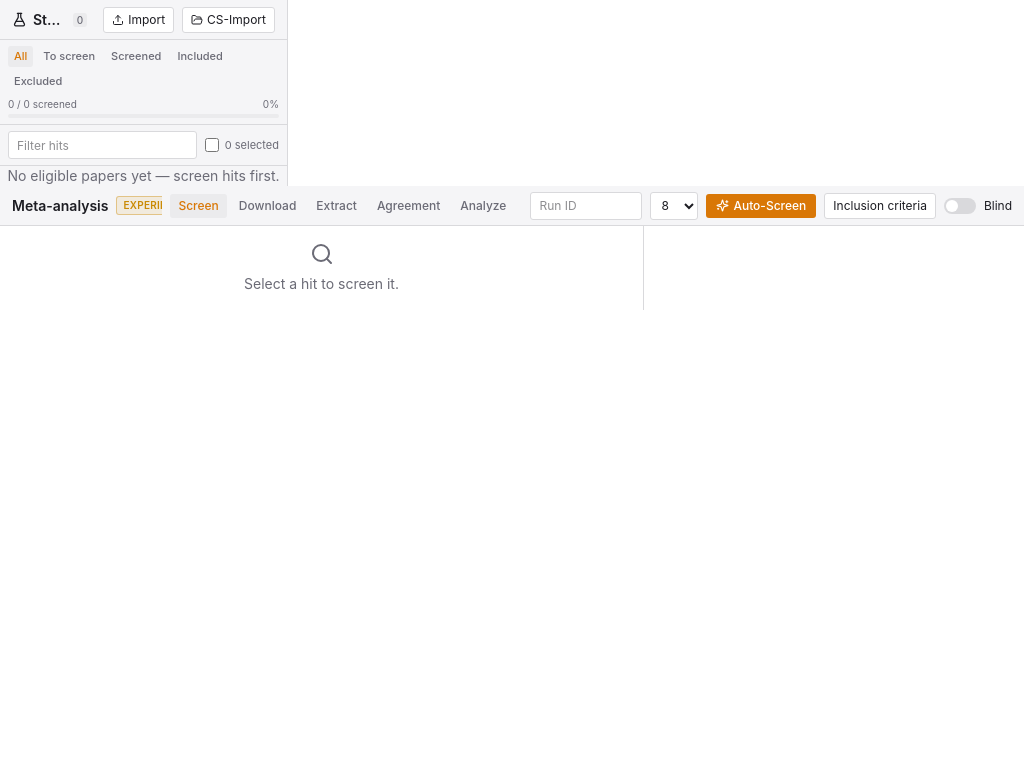
it: MetaView analyze tab › renders the variable audit coverage table and an issue
The width and height of the screenshot is (1024, 768).
Click the button "Analyze": (483, 206) left=452, top=194, right=514, bottom=218
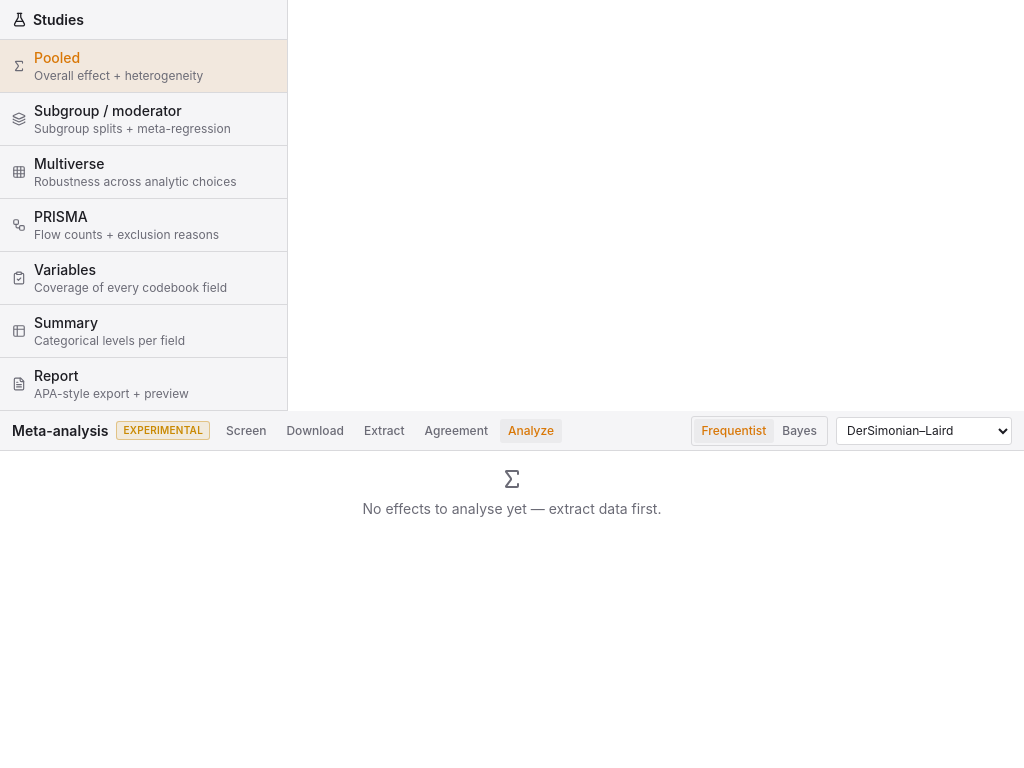
Click the button "Variables Coverage of every codebook field": (144, 278) left=0, top=252, right=287, bottom=305
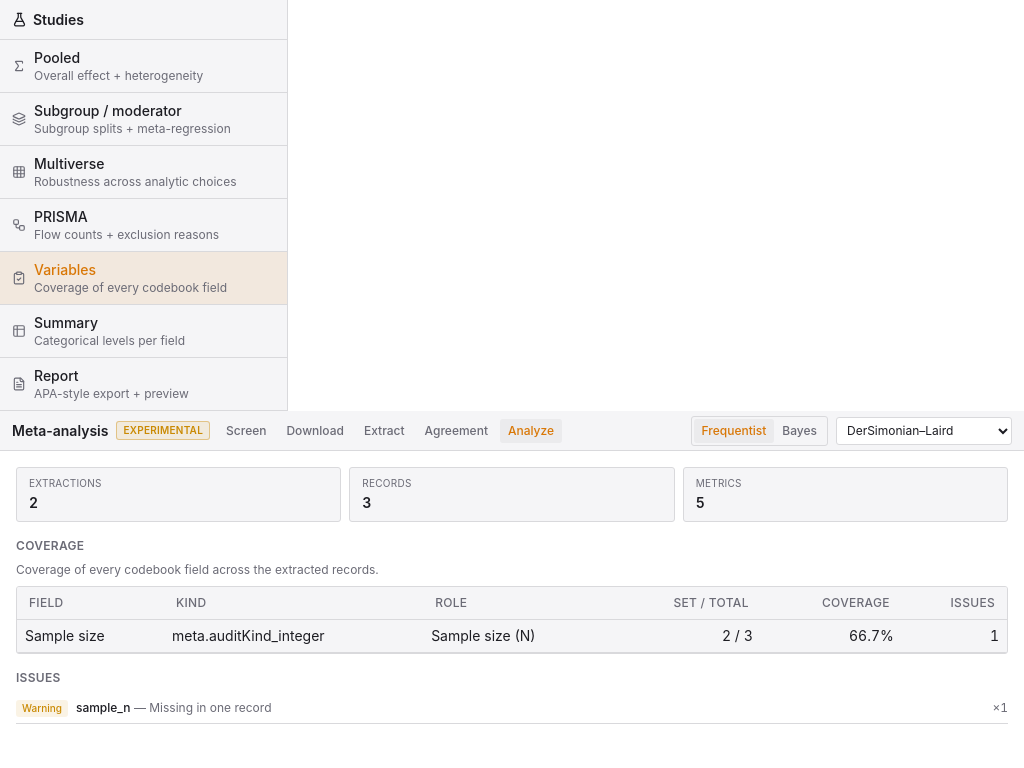
Now the text "Coverage" is shown, box left=34, top=280, right=227, bottom=295
Now the text "Sample size" is shown, box left=17, top=620, right=164, bottom=652
Now the text "Warning" is shown, box left=16, top=700, right=68, bottom=717
